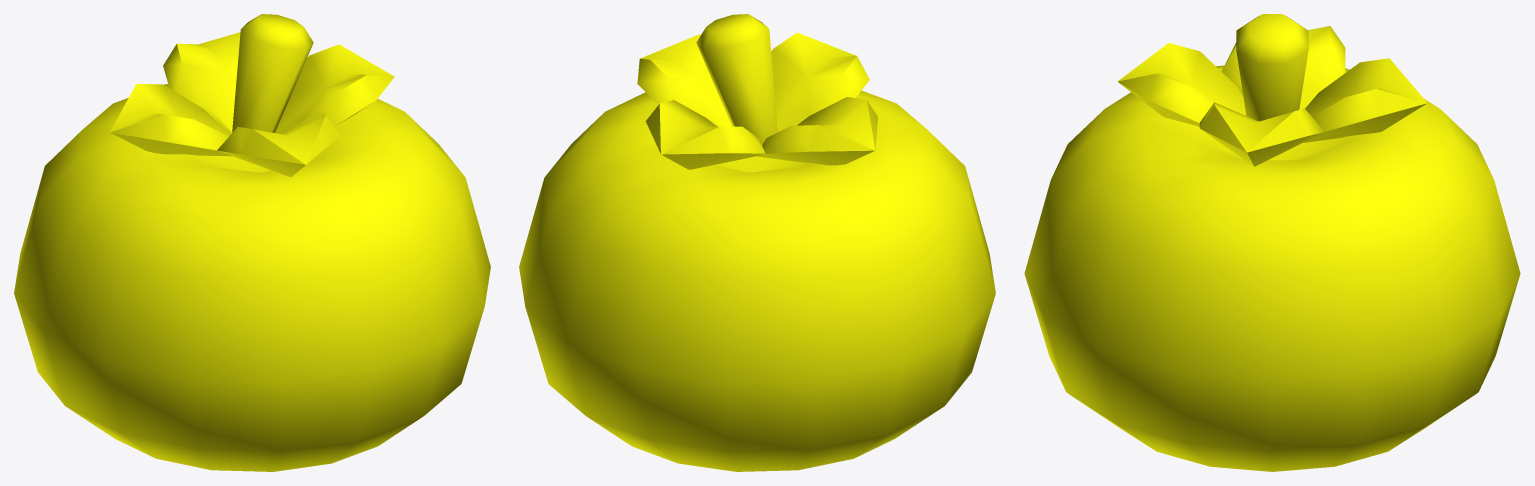
The model's file is food_ingredient_tomato.gltf.
3 views of the same model, side by side, from view 1: azimuth 30°, elevation 25°; view 2: azimuth 150°, elevation 25°; view 3: azimuth 270°, elevation 25° (orthographic). The views are drawn at different scales.
Visible parts, largest first — view 1: food_ingredient_tomato; view 2: food_ingredient_tomato; view 3: food_ingredient_tomato.
Part boxes in pixels (box(x1,y1,x2,y2)): food_ingredient_tomato: box(14, 14, 490, 471); food_ingredient_tomato: box(519, 14, 995, 471); food_ingredient_tomato: box(1024, 14, 1520, 471).
Size of the model in its own units: 0.75 by 0.7 by 0.75.
Materials: 1 (1 with a texture image).
